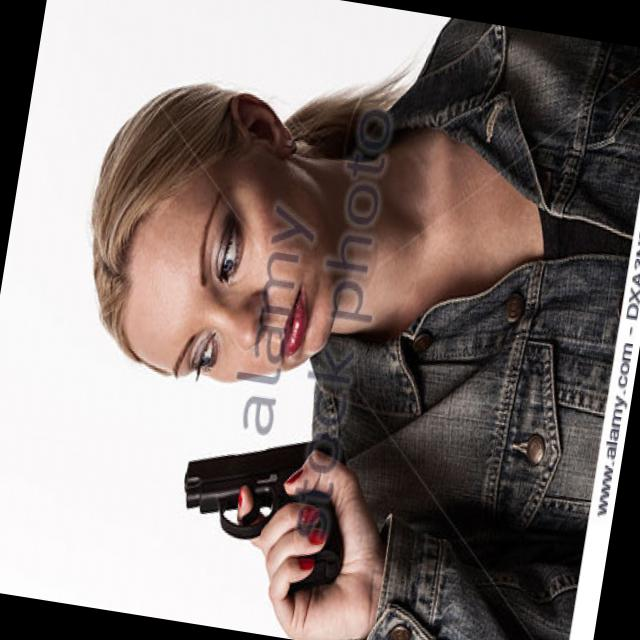handgun: (166, 416, 362, 600)
